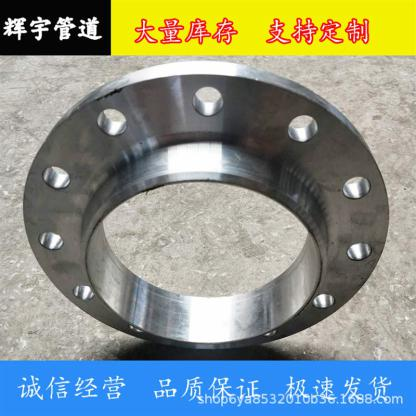FOD: (18, 59, 393, 357)
